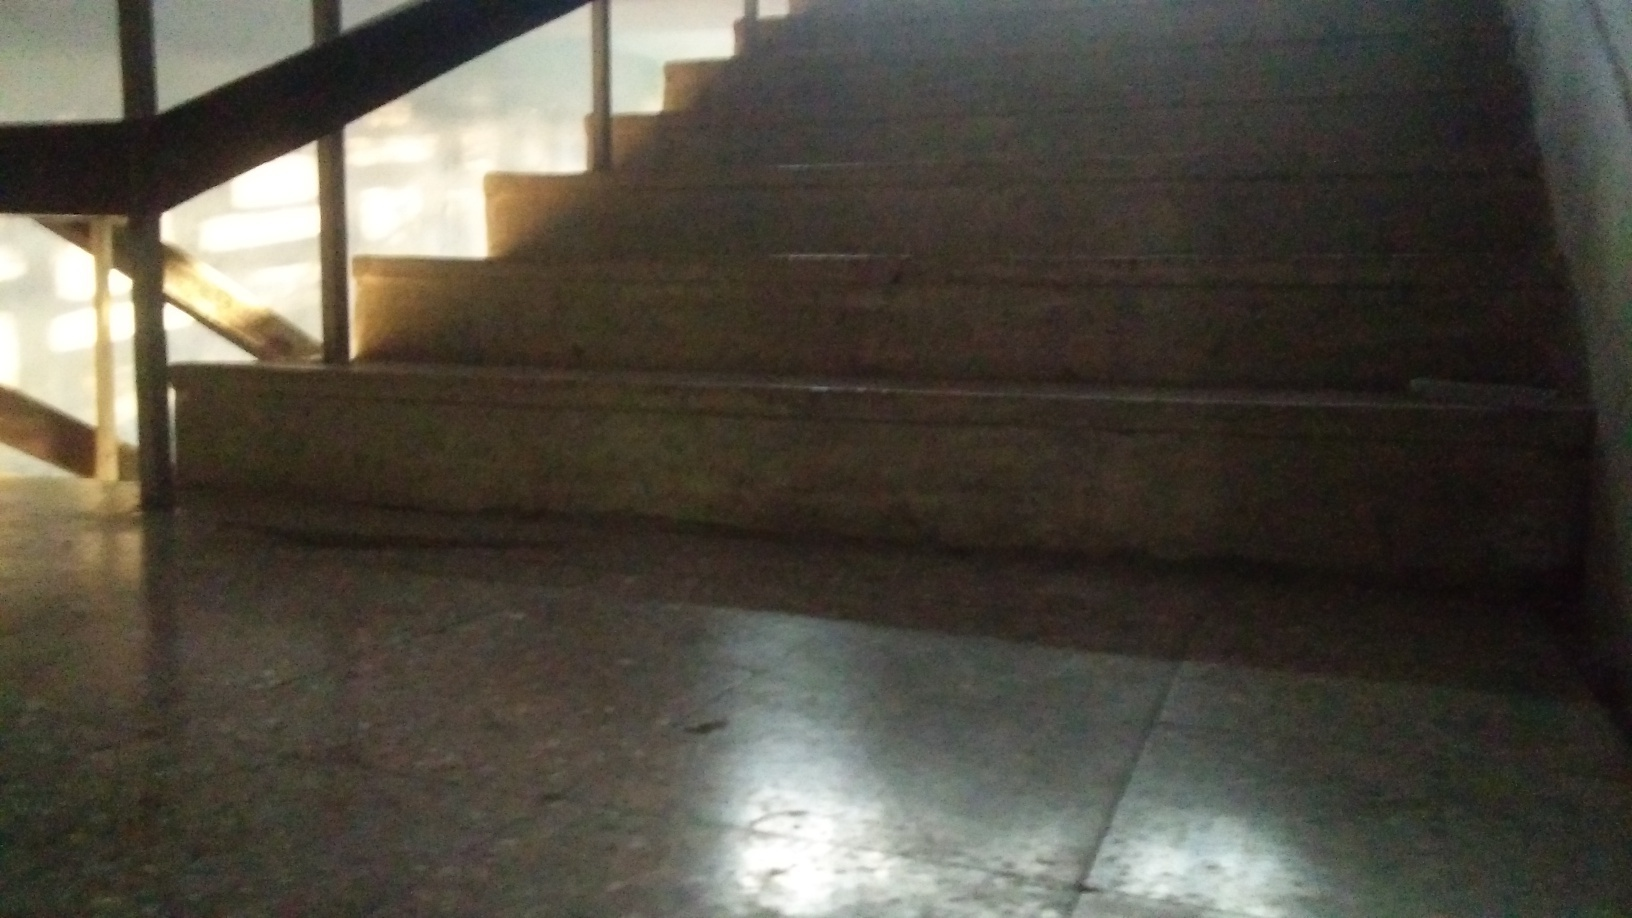stairs_up: (380, 16, 1574, 616)
